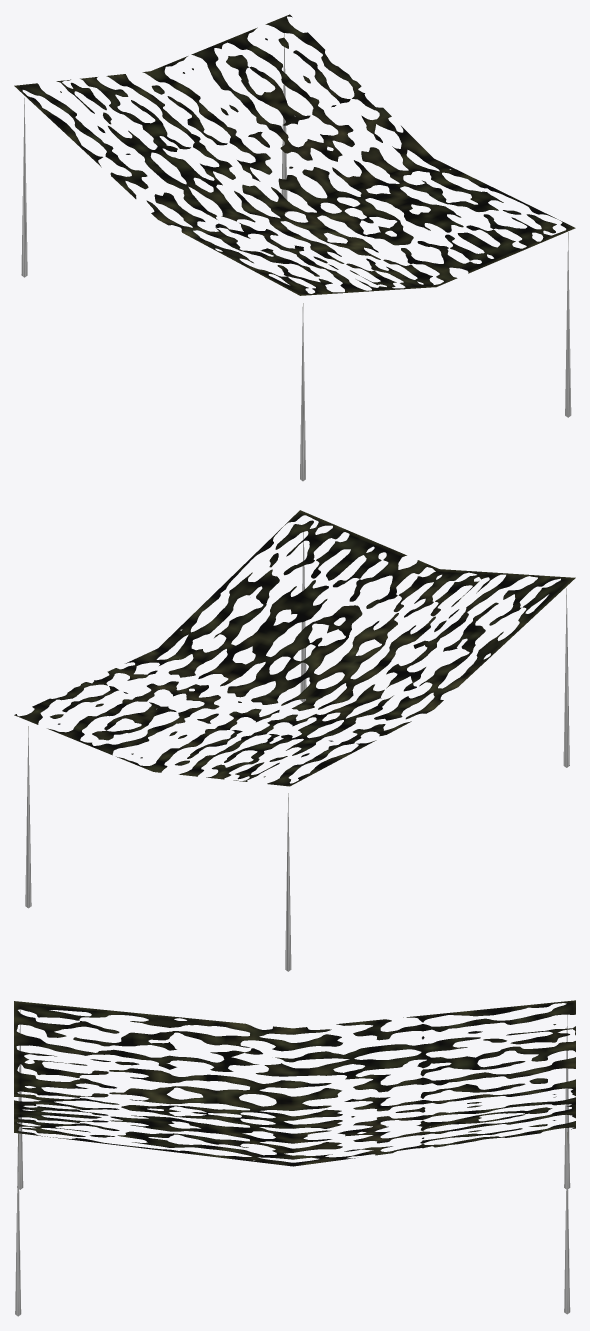
File: camonetting.glb
The picture shows the model from 3 angles, top to bottom: view 1: azimuth 30°, elevation 25°; view 2: azimuth 150°, elevation 25°; view 3: azimuth 270°, elevation 25°; orthographic projection.
Visible parts, largest first — view 1: camonetting; view 2: camonetting; view 3: camonetting.
Boxes of the visible parts, x1=… form: camonetting: x1=14, y1=14, x2=575, y2=481; camonetting: x1=14, y1=510, x2=575, y2=971; camonetting: x1=14, y1=1000, x2=575, y2=1316.
Bounding box in the file's own units: 6.97 × 4.65 × 12.52.
Materials: 1 (1 with a texture image).
